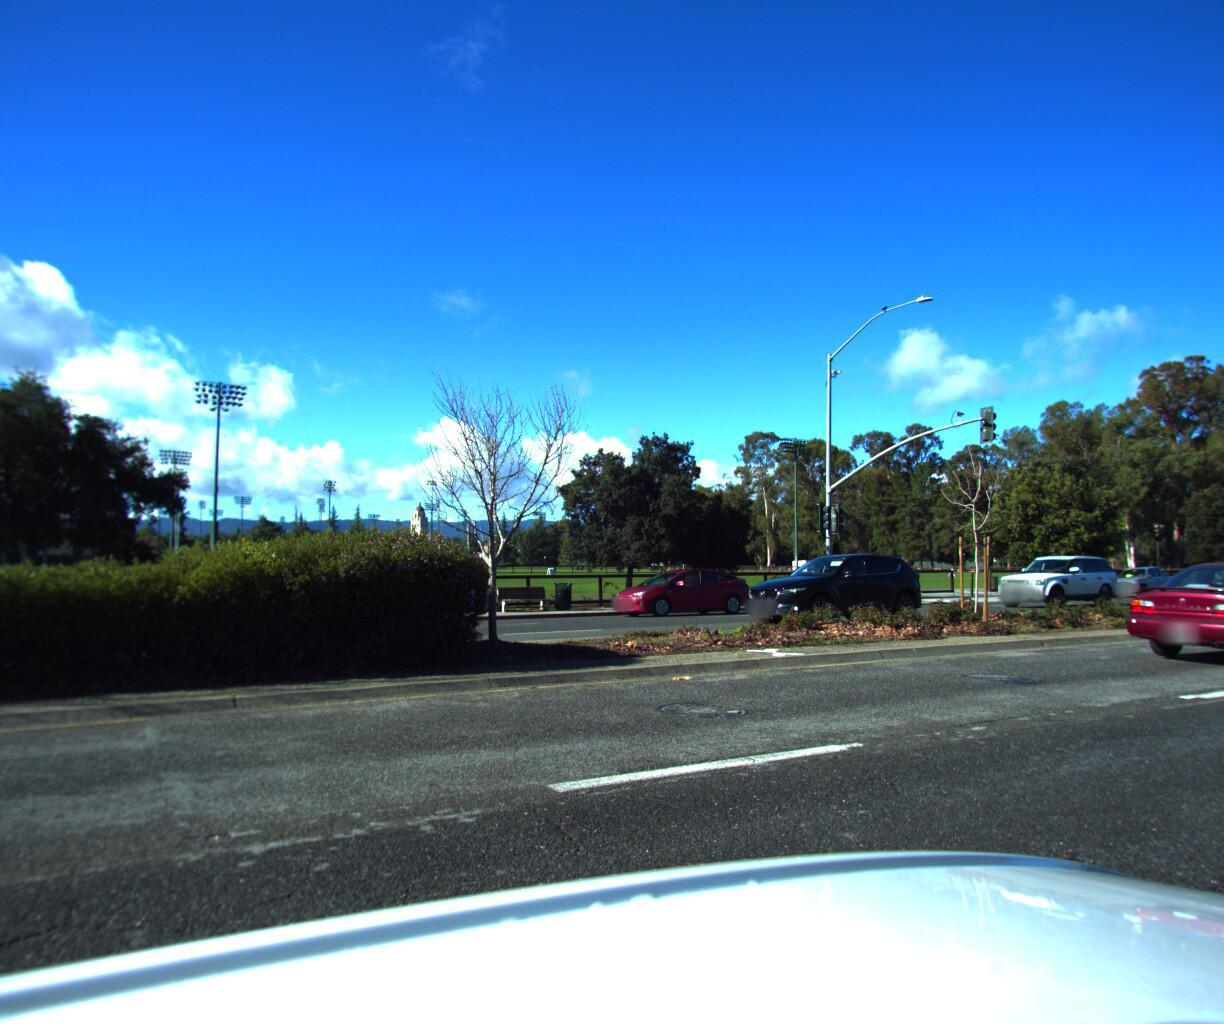car: (731, 551, 929, 625), (1106, 553, 1224, 672), (606, 565, 754, 615), (986, 551, 1121, 602), (1092, 558, 1182, 593)
